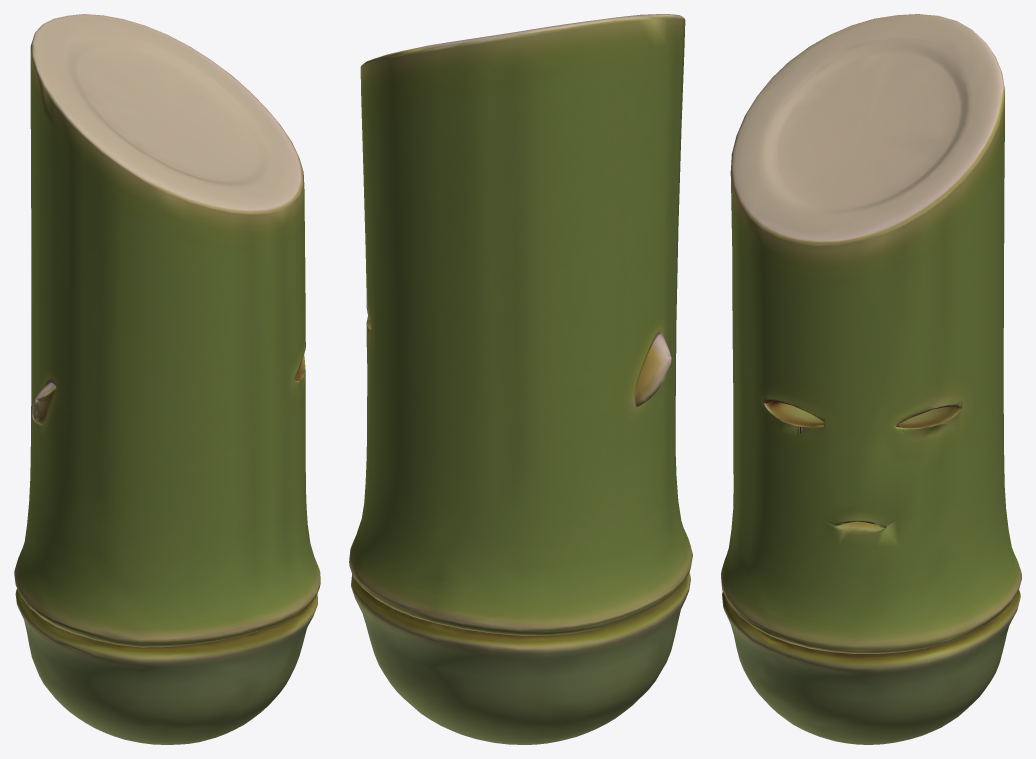
The picture shows the model from 3 angles, left to right: view 1: azimuth 30°, elevation 25°; view 2: azimuth 150°, elevation 25°; view 3: azimuth 270°, elevation 25°; orthographic projection. The views are drawn at different scales.
Parts seen in each view (by area): view 1: tripo_node_987cfbe7; view 2: tripo_node_987cfbe7; view 3: tripo_node_987cfbe7.
Part boxes in pixels (x1,y1,x2,y2): tripo_node_987cfbe7: (14, 14, 320, 744); tripo_node_987cfbe7: (349, 14, 692, 744); tripo_node_987cfbe7: (721, 14, 1021, 744).
Bounding box in the file's own units: 0.4097 × 0.9995 × 0.4097.
Materials: 1 (1 with a texture image).
